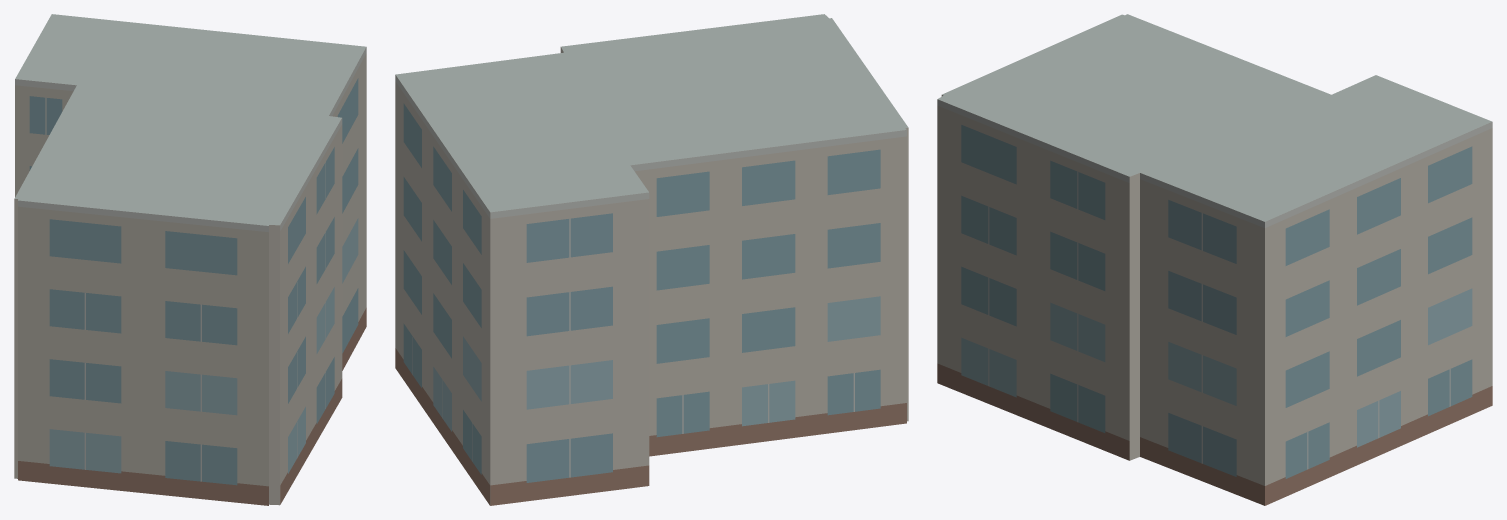
File: survey-upis-32840952.glb
The picture shows the model from 3 angles, left to right: view 1: azimuth 30°, elevation 25°; view 2: azimuth 150°, elevation 25°; view 3: azimuth 270°, elevation 25°; orthographic projection. The views are drawn at different scales.
Visible parts, largest first — view 1: survey-upis-32840952.tmp; view 2: survey-upis-32840952.tmp; view 3: survey-upis-32840952.tmp.
Part boxes in pixels (x1,y1,x2,y2): survey-upis-32840952.tmp: (14,14,366,505); survey-upis-32840952.tmp: (395,14,908,505); survey-upis-32840952.tmp: (937,14,1492,505).
Bounding box in the file's own units: 17.28 × 11 × 19.5.
